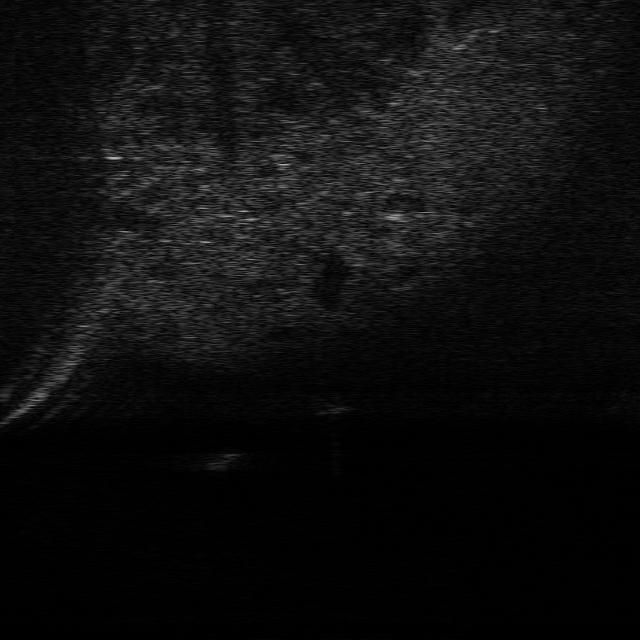cube: (312, 393, 348, 416)
cylinder: (212, 448, 236, 472)
